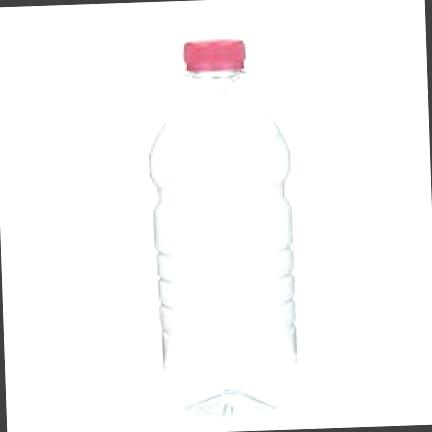container: (151, 40, 296, 418)
fluid: (151, 84, 296, 419)
fluid-surface: (194, 79, 235, 88)
